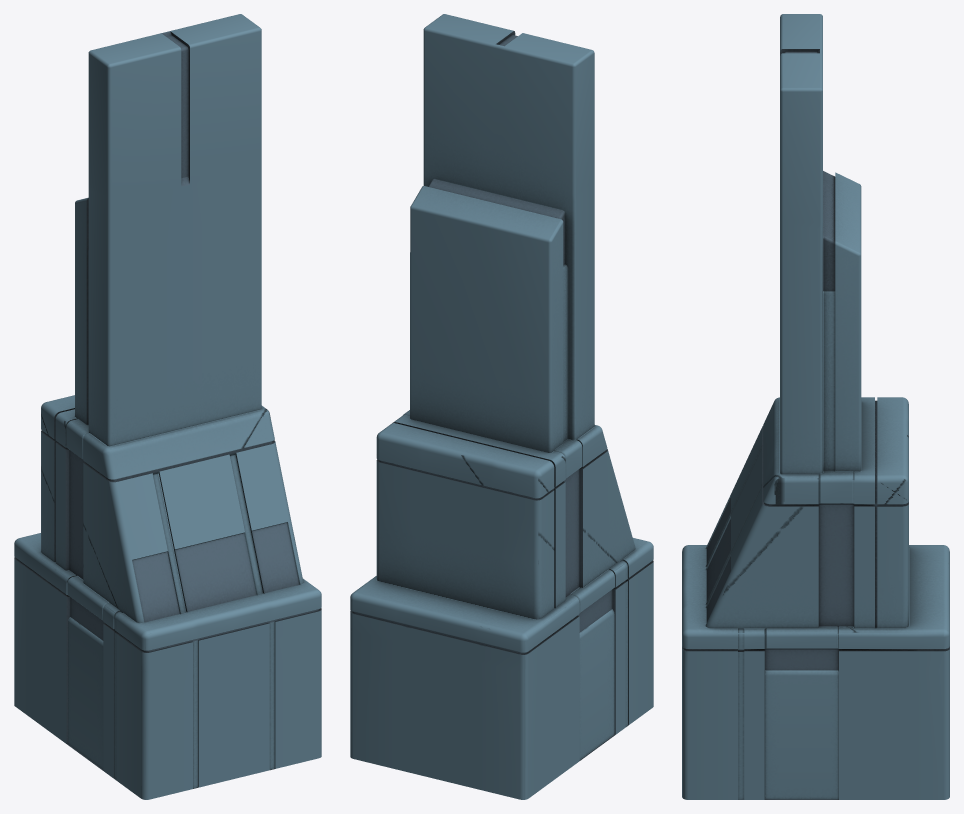
File: central_test-ext.obj
3 renders of one model, left to right at view 1: azimuth 30°, elevation 25°; view 2: azimuth 150°, elevation 25°; view 3: azimuth 270°, elevation 25°, orthographic. The views are drawn at different scales.
Visible parts, largest first — view 1: bluegray, bluegray-darker; view 2: bluegray, bluegray-darker; view 3: bluegray, bluegray-darker.
Part boxes in pixels (x1,y1,x2,y2): bluegray: (14, 14, 321, 799); bluegray-darker: (14, 31, 321, 788); bluegray: (350, 14, 653, 799); bluegray-darker: (350, 31, 653, 760); bluegray: (682, 14, 949, 799); bluegray-darker: (682, 49, 949, 799).
Bounding box in the file's own units: 164 × 607 × 209.
